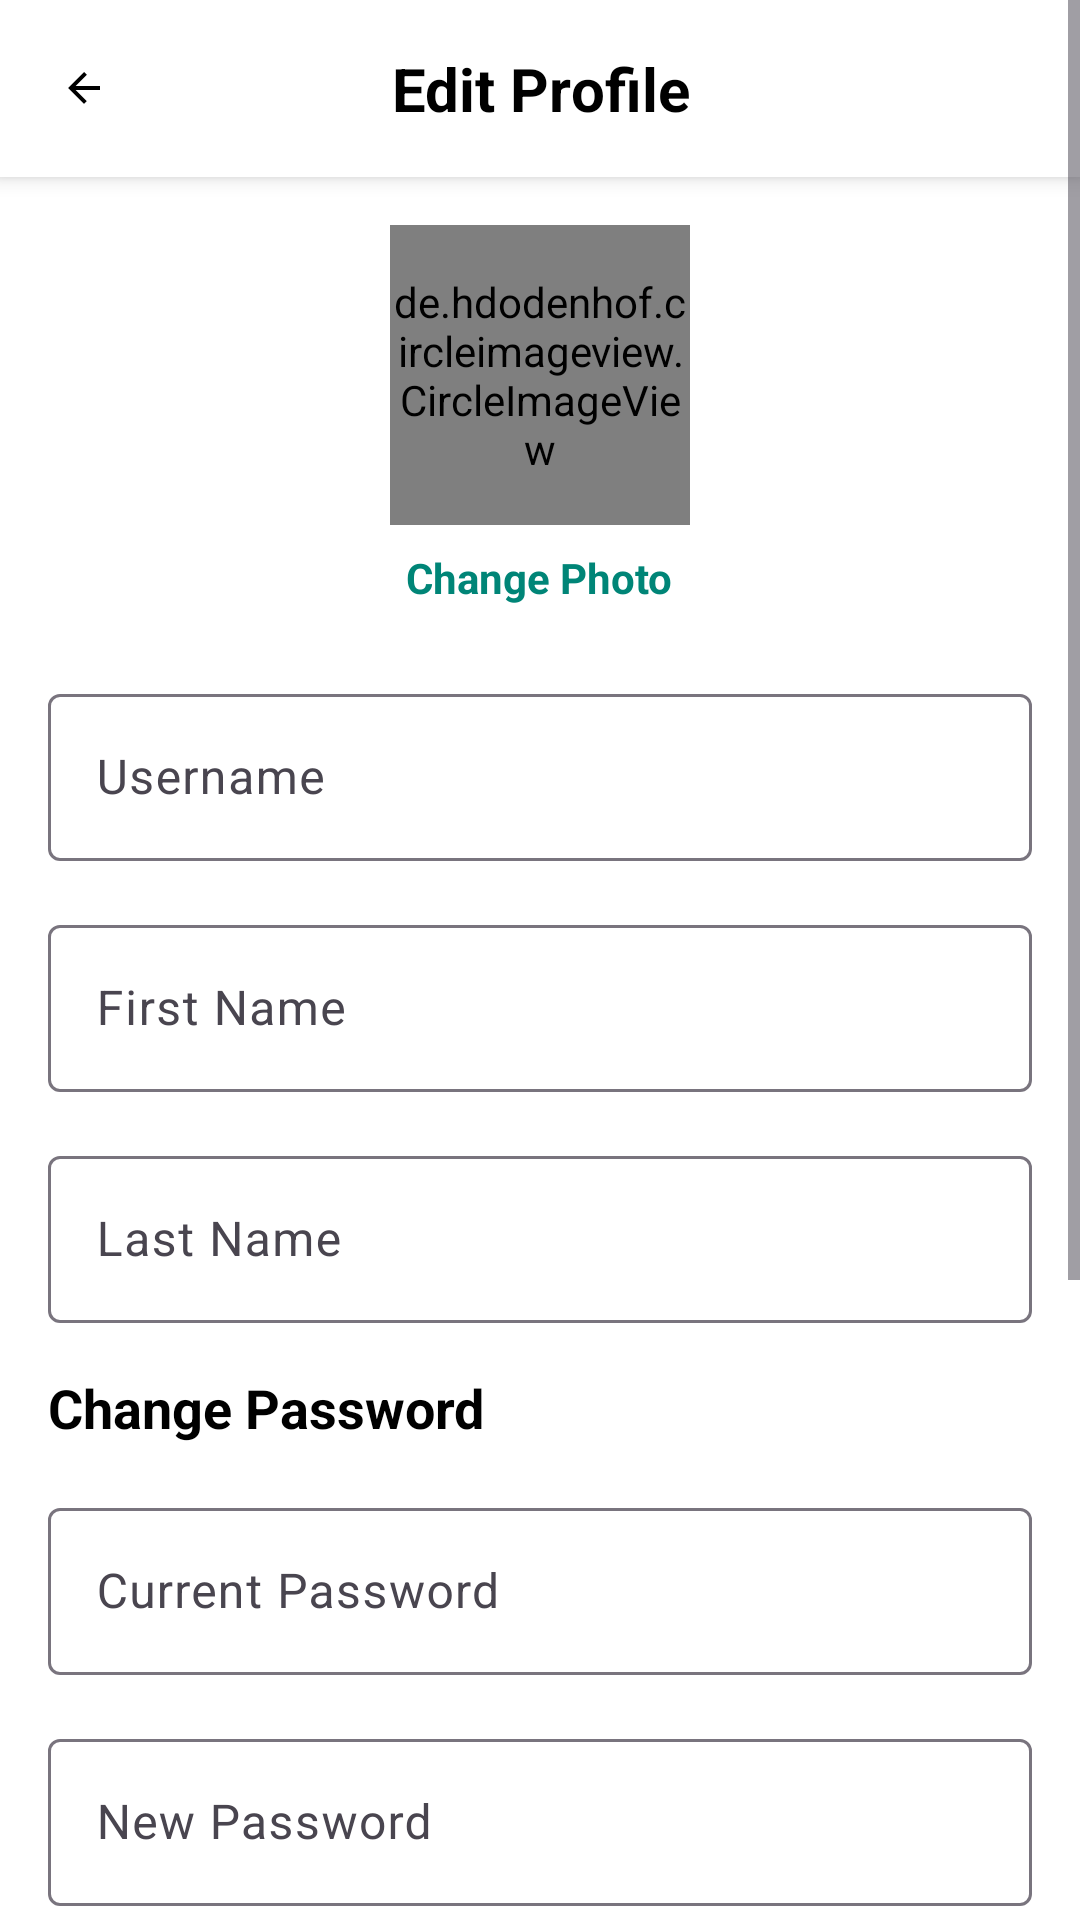

Icons on this 1080w x 1920h Android screen, each with the point to tap as (x=x, y=y):
Back: (x=84, y=88)
